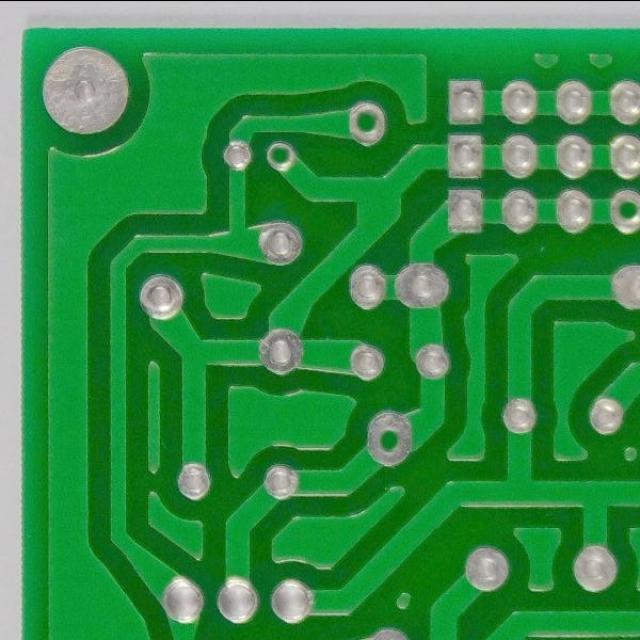Missing_Hole: (358, 408, 419, 472), (341, 98, 395, 151), (603, 183, 640, 238), (261, 140, 301, 175)
